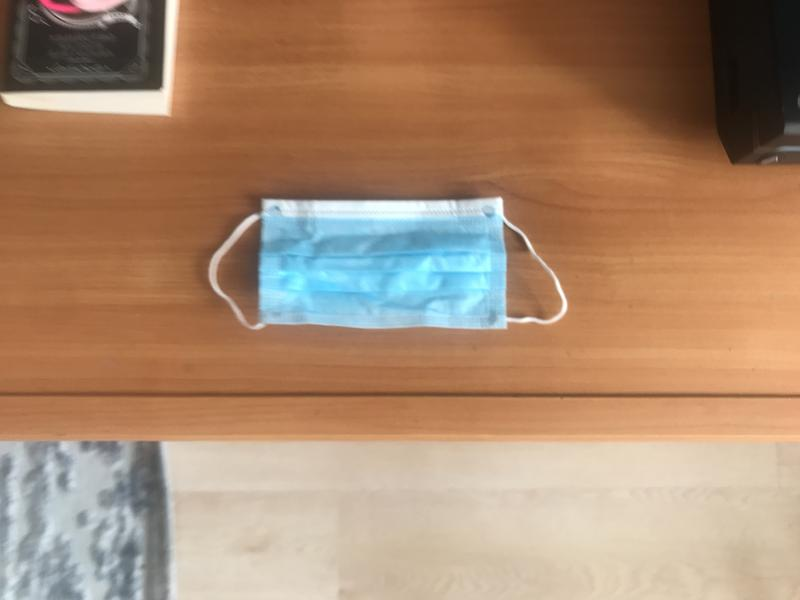medical_mask: (209, 197, 567, 332)
